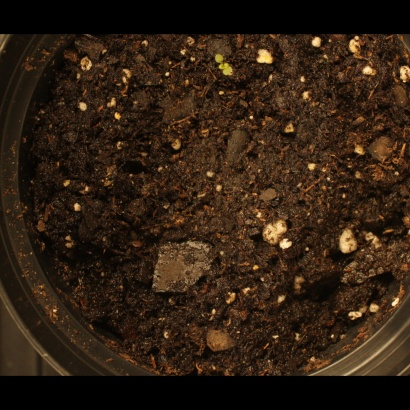leaf: (203, 41, 226, 64), (218, 68, 241, 91)
